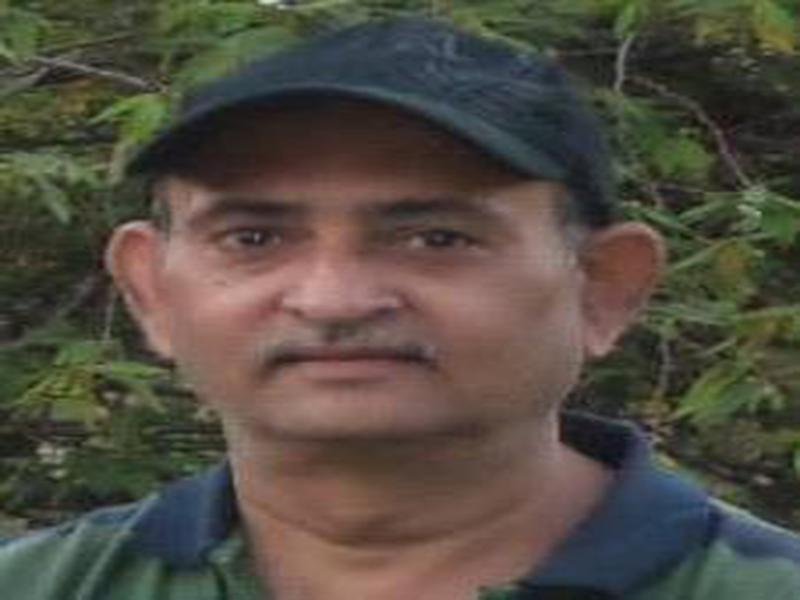without_mask: (161, 166, 582, 449)
